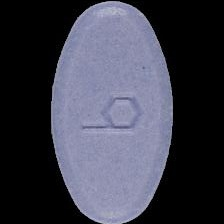33261-667: (0, 0, 224, 224)
